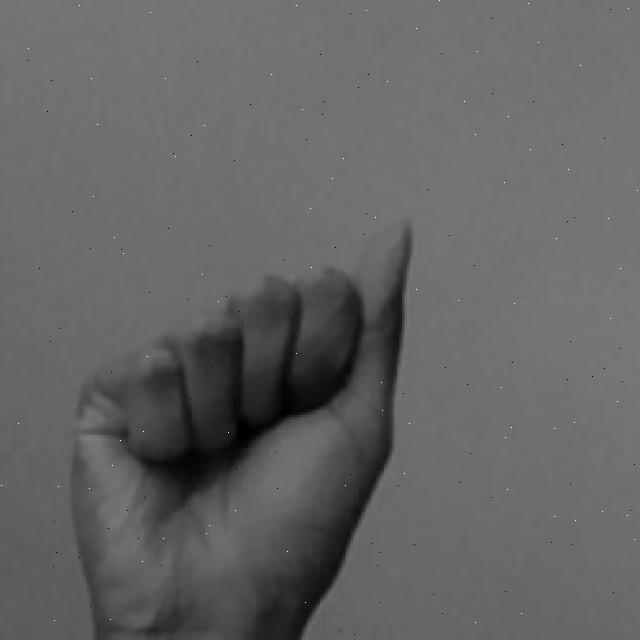A: (61, 209, 429, 640)
